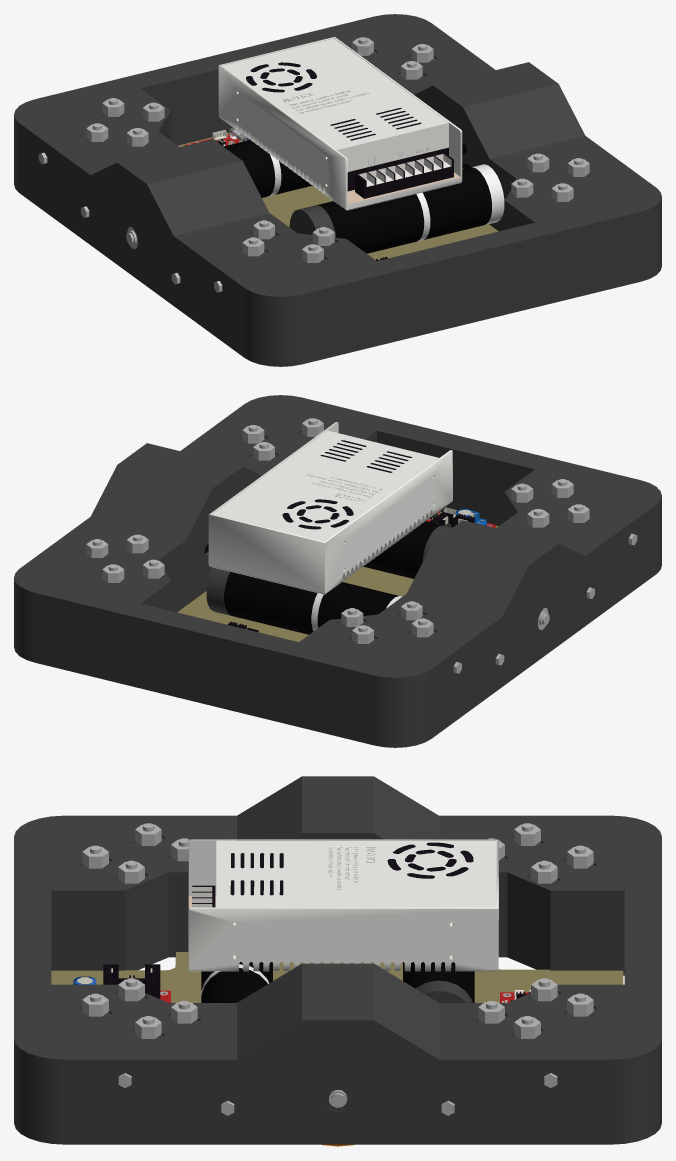
Rendered from apolo.glb.
The picture shows the model from 3 angles, top to bottom: view 1: azimuth 30°, elevation 25°; view 2: azimuth 150°, elevation 25°; view 3: azimuth 270°, elevation 25°; orthographic projection. The views are drawn at different scales.
Parts seen in each view (by area): view 1: Sólido1; view 2: Sólido1; view 3: Sólido1.
Boxes of the visible parts, <box> form: Sólido1: <box>14,14,661,366</box>; Sólido1: <box>14,395,661,747</box>; Sólido1: <box>14,776,661,1146</box>.
Size of the model in its own units: 0.406 by 0.1336 by 0.449.
Materials: 2 (2 with a texture image).
